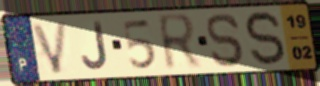5: (121, 18, 158, 71)
J: (80, 20, 111, 72)
R: (155, 11, 204, 74)
S: (243, 9, 288, 69), (205, 11, 248, 69)
V: (29, 19, 71, 76)
